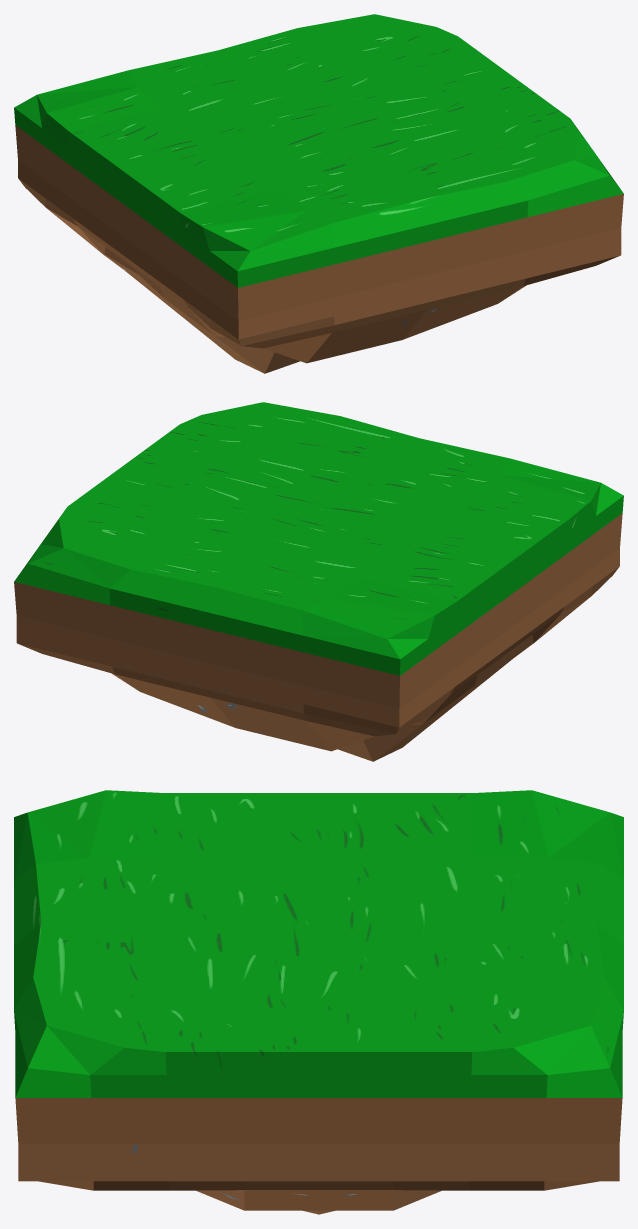
The model's file is Suelo.fbx.
3 renders of one model, top to bottom at view 1: azimuth 30°, elevation 25°; view 2: azimuth 150°, elevation 25°; view 3: azimuth 270°, elevation 25°, orthographic. The views are drawn at different scales.
Visible parts, largest first — view 1: Suelo; view 2: Suelo; view 3: Suelo.
Boxes of the visible parts, x1,y1,x2,y2 form: Suelo: (14,14,623,373); Suelo: (14,402,623,761); Suelo: (14,790,623,1214).
Size of the model in its own units: 200 by 106 by 199.
